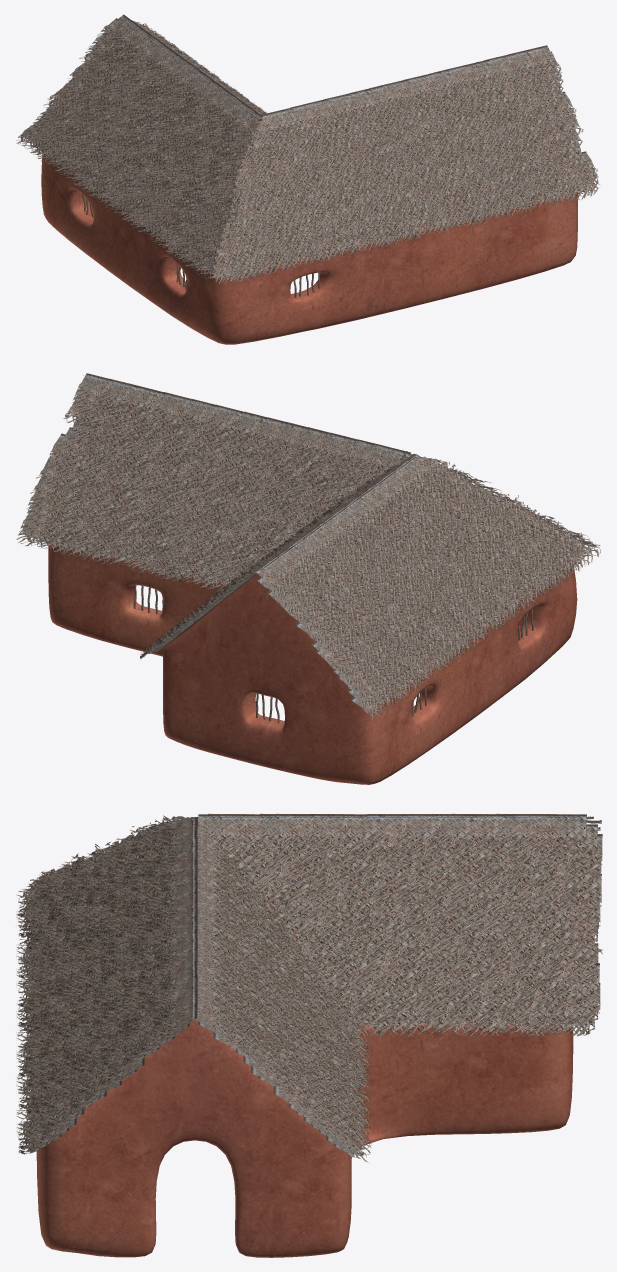
Rendered from thatched_hut.glb.
3 renders of one model, top to bottom at view 1: azimuth 30°, elevation 25°; view 2: azimuth 150°, elevation 25°; view 3: azimuth 270°, elevation 25°, orthographic. The views are drawn at different scales.
Visible parts, largest first — view 1: bool.001, bool, bool.003, bool.002; view 2: bool, bool.004, bool.003, bool.002, bool.001; view 3: bool.002, bool, bool.001, bool.004, bool.003.
Boxes of the visible parts, <box> form: bool.001: <box>212,45,599,284</box>; bool: <box>41,125,577,344</box>; bool.003: <box>16,14,262,282</box>; bool.002: <box>122,17,267,121</box>; bool: <box>48,532,577,784</box>; bool.004: <box>16,373,410,592</box>; bool.003: <box>254,453,600,720</box>; bool.002: <box>140,457,415,658</box>; bool.001: <box>83,375,600,548</box>; bool.002: <box>198,813,602,1038</box>; bool: <box>36,978,573,1257</box>; bool.001: <box>16,816,197,1154</box>; bool.004: <box>190,819,371,1161</box>; bool.003: <box>41,815,601,878</box>.
Size of the model in its own units: 6.4 by 2.73 by 5.68.
Materials: 3 (2 with a texture image).
